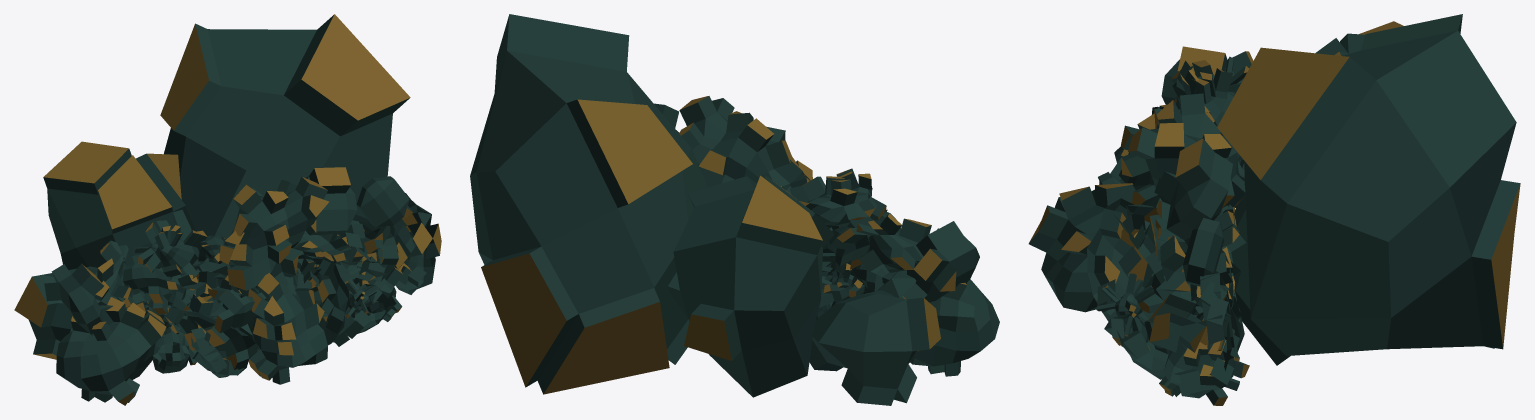
The model's file is Boulder.fbx.
The picture shows the model from 3 angles, left to right: view 1: azimuth 30°, elevation 25°; view 2: azimuth 150°, elevation 25°; view 3: azimuth 270°, elevation 25°; orthographic projection. The views are drawn at different scales.
Visible parts, largest first — view 1: Boulder; view 2: Boulder; view 3: Boulder.
Boxes of the visible parts, <box> form: Boulder: <box>14,14,441,405</box>; Boulder: <box>470,14,999,405</box>; Boulder: <box>1028,14,1520,405</box>.
Bounding box in the file's own units: 764 × 518 × 633.
